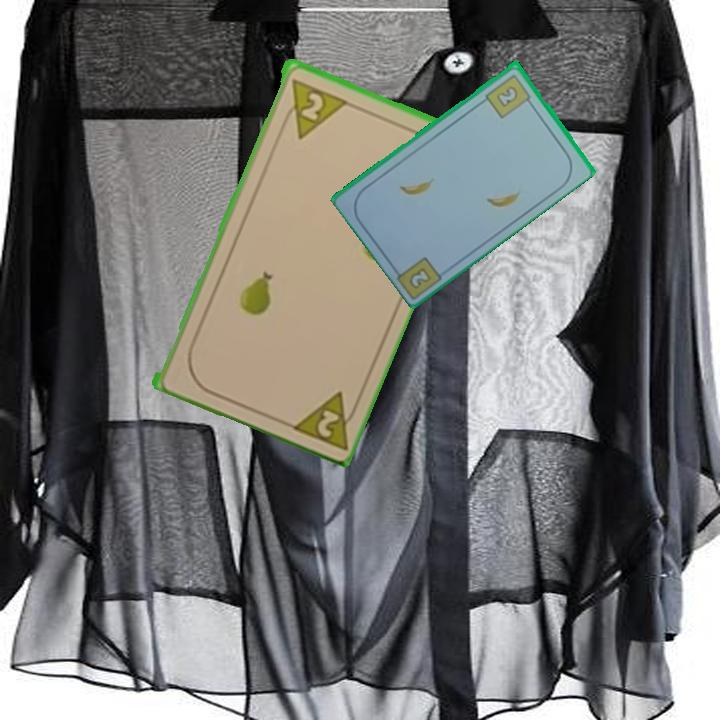2b: (482, 70, 535, 121), (405, 264, 434, 290)
2p: (285, 386, 363, 452), (278, 73, 348, 141)
